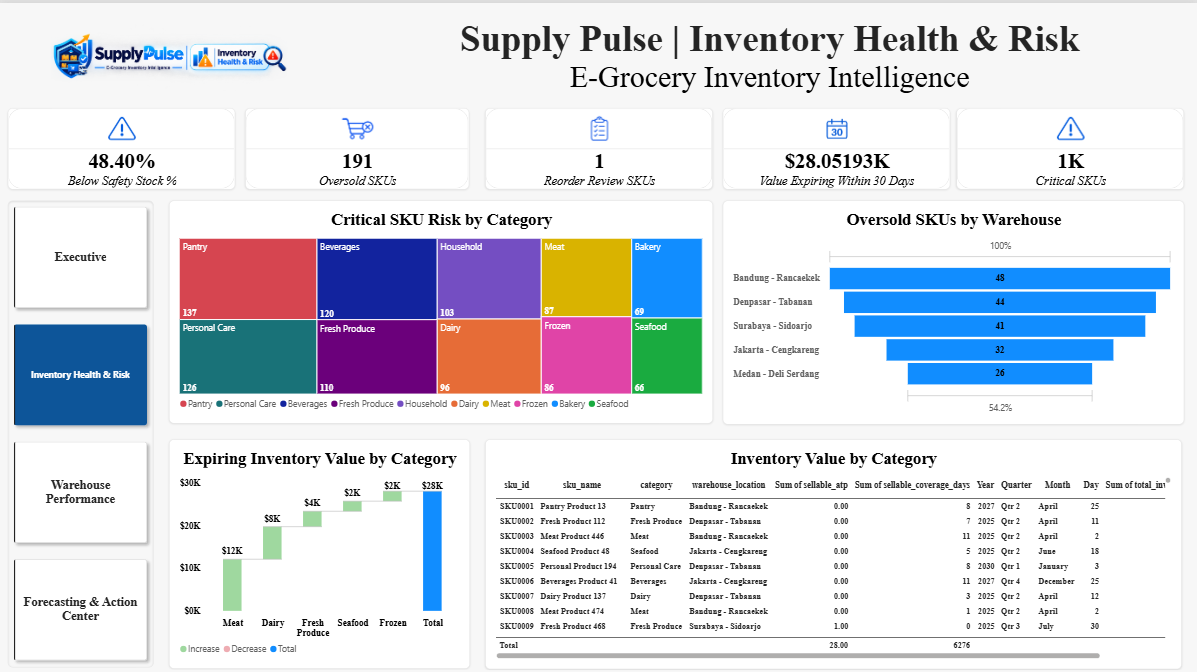

What the dashboard file says about the page in this screenshot:
{"tool":"powerbi","page":{"name":"Inventory Health & Risk","canvas":[1920,1080],"ordinal":1},"visuals":[{"type":"cardVisual","fields":{"Data":["Fact_Inventory.Below Safety Stock %"]},"box":[14,168,364,130],"z":0},{"type":"cardVisual","fields":{"Data":["Fact_Inventory.Oversold SKUs"]},"box":[394,168,358,130],"z":1000},{"type":"cardVisual","fields":{"Data":["Fact_Inventory.Reorder Review SKUs"]},"box":[778,168,364,130],"z":2000},{"type":"cardVisual","fields":{"Data":["Fact_Inventory.Value Expiring Within 30 Days"]},"box":[1158,168,364,130],"z":3000},{"type":"cardVisual","fields":{"Data":["Fact_Inventory.Critical SKUs"]},"box":[1532,168,364,130],"z":4000},{"type":"image","box":[14,24,516,126],"z":5000},{"type":"textbox","box":[570,24,1326,126],"z":6000},{"type":"treemap","title":"Critical SKU Risk by Category","fields":{"Group":["Dim_Product.category"],"Values":["Fact_Inventory.Critical SKUs"]},"box":[271.4,316.7,870.4,356.5],"z":7000},{"type":"waterfallChart","title":"Expiring Inventory Value by Category","fields":{"Category":["Dim_Product.category"],"Y":["Fact_Inventory.Value Expiring Within 30 Days"]},"box":[271.4,698.5,481.4,367.4],"z":8000},{"type":"funnel","title":"Oversold SKUs by Warehouse","fields":{"Category":["Dim_Warehouse.warehouse_location"],"Y":["Fact_Inventory.Oversold SKUs"]},"box":[1158,316,738,358],"z":9000},{"type":"tableEx","title":"Inventory Value by Category","fields":{"Values":["Dim_Product.sku_id","Dim_Product.sku_name","Dim_Product.category","Dim_Warehouse.warehouse_location","Sum(Fact_Inventory.sellable_atp)","Sum(Fact_Inventory.sellable_coverage_days)","Fact_Inventory.expiry_date.Variation.Date Hierarchy.Year","Fact_Inventory.expiry_date.Variation.Date Hierarchy.Quarter","Fact_Inventory.expiry_date.Variation.Date Hierarchy.Month","Fact_Inventory.expiry_date.Variation.Date Hierarchy.Day","Sum(Fact_Inventory.total_inventory_value_usd)"]},"box":[778,698,1114,368],"z":10000},{"type":"pageNavigator","box":[14.5,316.7,233.4,747.4],"z":11000}]}

Visuals, with their boxes in screenshot pixels (x1, y1, x2, y2), scaled from the page's 1920x1080 canvas onto the 1197x672 screenshot:
cardVisual - Fact_Inventory.Below Safety Stock %: bbox=[9, 105, 236, 185]
cardVisual - Fact_Inventory.Oversold SKUs: bbox=[246, 105, 469, 185]
cardVisual - Fact_Inventory.Reorder Review SKUs: bbox=[485, 105, 712, 185]
cardVisual - Fact_Inventory.Value Expiring Within 30 Days: bbox=[722, 105, 949, 185]
cardVisual - Fact_Inventory.Critical SKUs: bbox=[955, 105, 1182, 185]
image: bbox=[9, 15, 330, 93]
textbox: bbox=[355, 15, 1182, 93]
"Critical SKU Risk by Category" treemap: bbox=[169, 197, 712, 419]
"Expiring Inventory Value by Category" waterfallChart: bbox=[169, 435, 469, 663]
"Oversold SKUs by Warehouse" funnel: bbox=[722, 197, 1182, 419]
"Inventory Value by Category" tableEx: bbox=[485, 434, 1180, 663]
pageNavigator: bbox=[9, 197, 155, 662]
